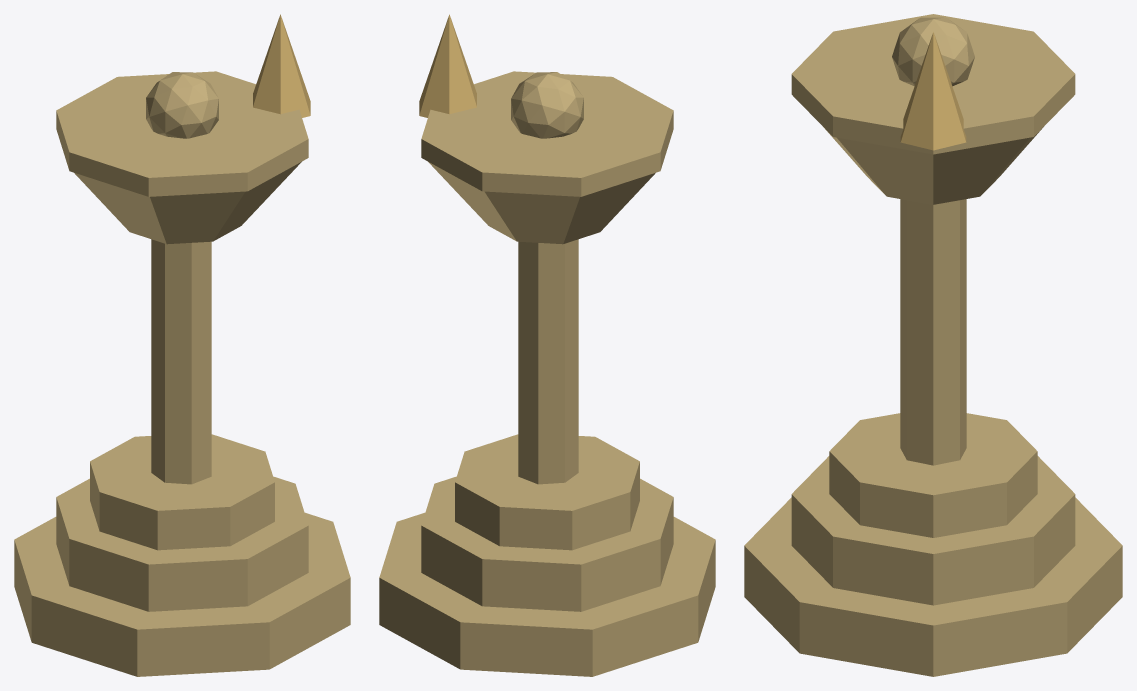
The model's file is nilavilakku.glb.
3 renders of one model, left to right at view 1: azimuth 30°, elevation 25°; view 2: azimuth 150°, elevation 25°; view 3: azimuth 270°, elevation 25°, orthographic. The views are drawn at different scales.
Parts seen in each view (by area): view 1: geometry_0; view 2: geometry_0; view 3: geometry_0.
Boxes of the visible parts, left/top/right/bottom form: geometry_0: left=14, top=14, right=350, bottom=676; geometry_0: left=379, top=14, right=715, bottom=676; geometry_0: left=744, top=14, right=1122, bottom=676.
Size of the model in its own units: 0.2 by 0.36 by 0.2.
